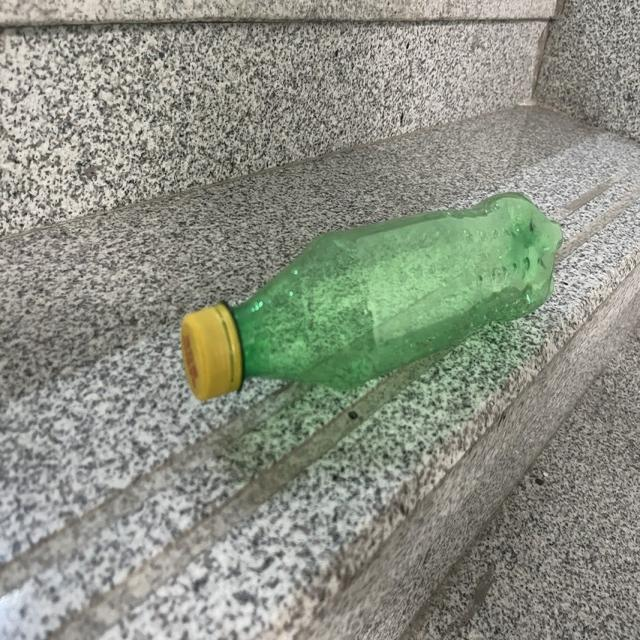empty: (182, 193, 562, 399)
